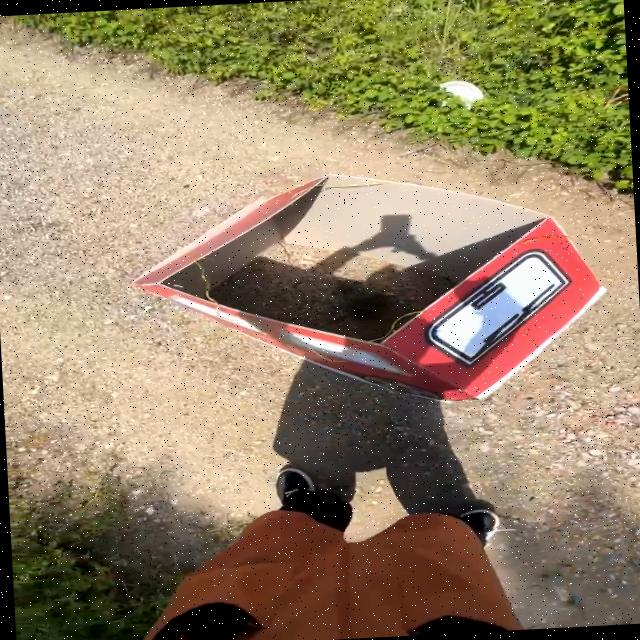red_car: (64, 140, 640, 445)
